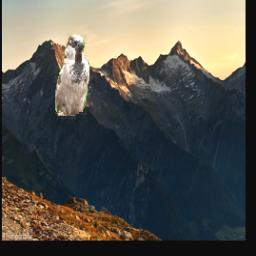Sparrow: (55, 33, 89, 123)
